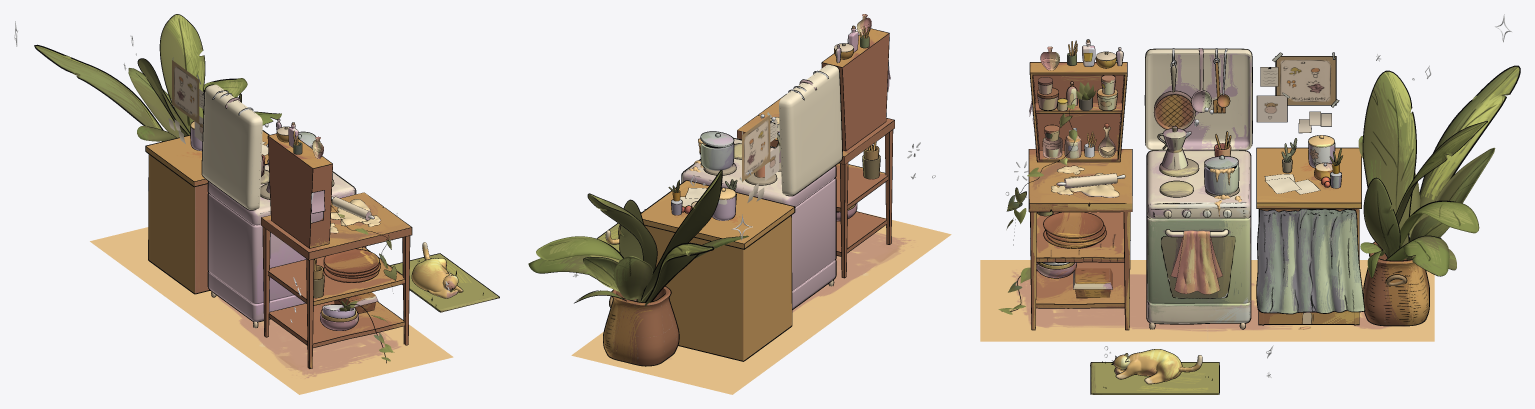
The model's file is cozykitchen.glb.
The picture shows the model from 3 angles, left to right: view 1: azimuth 30°, elevation 25°; view 2: azimuth 150°, elevation 25°; view 3: azimuth 270°, elevation 25°; orthographic projection. The views are drawn at different scales.
Visible parts, largest first — view 1: Plane.002, Cube.064, Cube.063, Cube.067, Cube.076, Cube.073, Cube.065, Plane.006, Plane.005, Cube.004, Cube.077, Cube.079 (+10 smaller); view 2: Cube.064, Plane.002, Cube.063, Cube.076, Cube.078, Cube.073, Cube.067, Plane.004, Plane.007, Plane.006, Cube.079, Plane.014 (+14 smaller); view 3: Plane.002, Cube.063, Cube.112, Cube.076, Cube.067, Cube.064, Plane.004, Cube.073, Cube.065, Cube.078, Plane.005, Cube.077 (+24 smaller).
Part boxes in pixels (box(x1,y1,x2,y2)): Plane.002: box(90, 227, 453, 394); Cube.064: box(145, 130, 269, 294); Cube.063: box(208, 164, 355, 321); Cube.067: box(263, 227, 409, 368); Cube.076: box(201, 84, 262, 210); Cube.073: box(268, 134, 332, 247); Cube.065: box(261, 192, 411, 259); Plane.006: box(159, 14, 205, 132); Plane.005: box(34, 44, 163, 141); Cube.004: box(262, 227, 410, 368); Cube.077: box(390, 254, 498, 312); Cube.079: box(172, 60, 199, 123); Cube.064: box(641, 180, 795, 361); Plane.002: box(571, 211, 951, 394); Cube.063: box(682, 138, 835, 308); Cube.076: box(779, 64, 842, 196); Cube.078: box(603, 286, 679, 366); Cube.073: box(822, 29, 889, 150); Cube.067: box(836, 130, 892, 277); Plane.004: box(640, 170, 722, 302); Plane.007: box(536, 236, 642, 294); Plane.006: box(587, 193, 657, 271); Cube.079: box(742, 115, 770, 181); Plane.014: box(613, 256, 652, 299); Plane.002: box(980, 260, 1434, 341); Cube.063: box(1147, 151, 1250, 323); Cube.112: box(1256, 209, 1365, 314); Cube.076: box(1144, 48, 1252, 150); Cube.067: box(1030, 212, 1130, 329); Cube.064: box(1256, 147, 1361, 325); Plane.004: box(1362, 70, 1416, 246); Cube.073: box(1030, 62, 1126, 161); Cube.065: box(1029, 149, 1132, 211); Cube.078: box(1363, 241, 1429, 326); Plane.005: box(1409, 65, 1520, 257); Cube.077: box(1090, 362, 1218, 394).
Bounding box in the file's own units: 4.97 × 3.6 × 7.18.
Materials: 11 (6 with a texture image).
